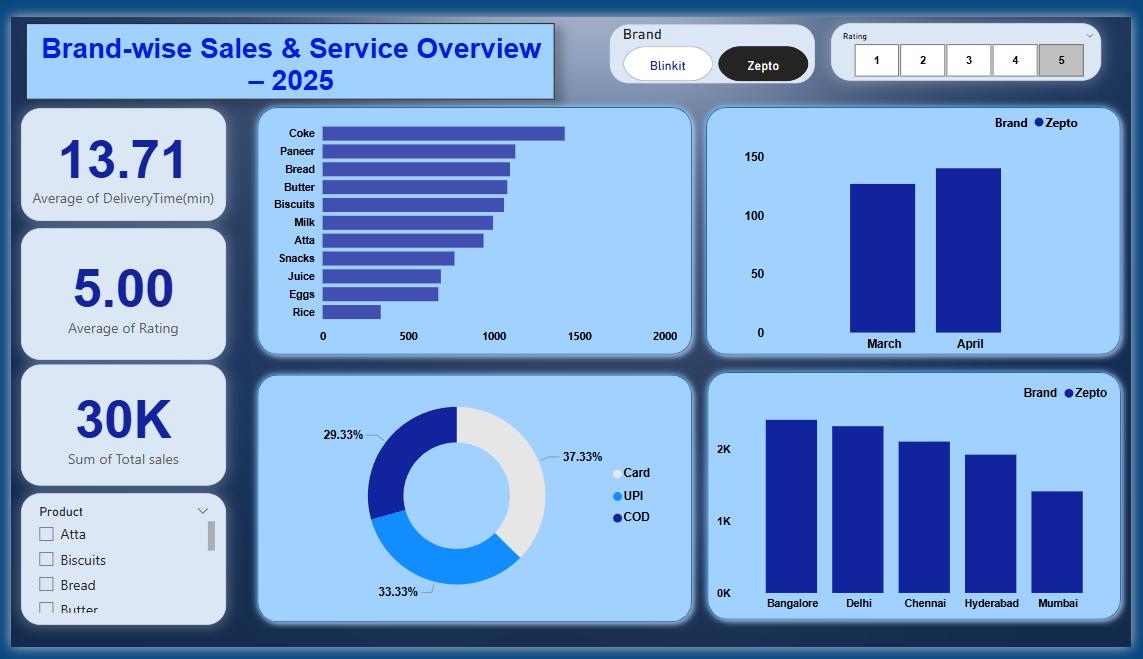

The dashboard page shown, as its layout file describes it:
{"tool":"powerbi","page":{"name":"Page 1","canvas":[1280,720],"ordinal":0},"visuals":[{"type":"textbox","title":"Brand-wise Sales & Service Overview – 2025","box":[17.1,7.1,604.3,87.1],"z":0},{"type":"card","fields":{"Values":["Avg(Sheet1.DeliveryTime(min))"]},"box":[10.8,104.5,234.1,128.5],"z":1000},{"type":"card","fields":{"Values":["Avg(Sheet1.Rating)"]},"box":[10.8,241.4,234.1,150.1],"z":2000},{"type":"shape","box":[272.6,94.9,513.9,300.2],"z":3000},{"type":"clusteredBarChart","fields":{"Category":["Sheet1.Product"],"Y":["Sum(Sheet1.Price)"]},"box":[294.2,104.5,471.9,278.6],"z":4000},{"type":"shape","box":[785.3,94.9,491.1,300.2],"z":5000},{"type":"shape","box":[786.5,397.4,489.9,300.2],"z":6000},{"type":"clusteredColumnChart","fields":{"Category":["Sheet1.City"],"Y":["Sum(Sheet1.Price)"],"Series":["Sheet1.Brand"]},"box":[800.9,409.5,461.1,276.2],"z":7000},{"type":"shape","box":[272.6,399.8,513.9,300.2],"z":8000},{"type":"donutChart","fields":{"Y":["CountNonNull(Sheet1.PaymentMode)"],"Category":["Sheet1.PaymentMode"]},"box":[326.6,397.4,417.9,300.2],"z":9000},{"type":"clusteredColumnChart","fields":{"Category":["Sheet1.Date.Variation.Date Hierarchy.Month"],"Y":["Avg(Sheet1.Price)"],"Series":["Sheet1.Brand"]},"box":[833.3,99.7,396.2,290.6],"z":10000},{"type":"slicer","fields":{"Values":["Sheet1.Product"]},"box":[10.8,543.9,234.1,150.1],"z":11000},{"type":"slicer","fields":{"Values":["Sheet1.Rating"]},"box":[937.1,7.1,308.6,65.7],"z":12000},{"type":"advancedSlicerVisual","fields":{"Values":["Sheet1.Brand"]},"box":[684.3,8.6,234.3,67.1],"z":13000},{"type":"card","fields":{"Values":["Sum(Sheet1.Total sales)"]},"box":[10.8,397.4,234.1,138.1],"z":14000}]}

Visuals, with their boxes in screenshot pixels (x1, y1, x2, y2), scaled from the page's 1280x720 canvas onto the 1143x659 screenshot:
"Brand-wise Sales & Service Overview – 2025" textbox: 15/6/555/86
card - Avg(Sheet1.DeliveryTime(min)): 10/96/219/213
card - Avg(Sheet1.Rating): 10/221/219/358
shape: 243/87/702/362
clusteredBarChart - Sheet1.Product x Sum(Sheet1.Price): 263/96/684/351
shape: 701/87/1140/362
shape: 702/364/1140/638
clusteredColumnChart - Sheet1.City x Sum(Sheet1.Price): 715/375/1127/628
shape: 243/366/702/641
donutChart - CountNonNull(Sheet1.PaymentMode) x Sheet1.PaymentMode: 292/364/665/638
clusteredColumnChart - Sheet1.Date.Variation.Date Hierarchy.Month x Avg(Sheet1.Price): 744/91/1098/357
slicer - Sheet1.Product: 10/498/219/635
slicer - Sheet1.Rating: 837/6/1112/67
advancedSlicerVisual - Sheet1.Brand: 611/8/820/69
card - Sum(Sheet1.Total sales): 10/364/219/490
